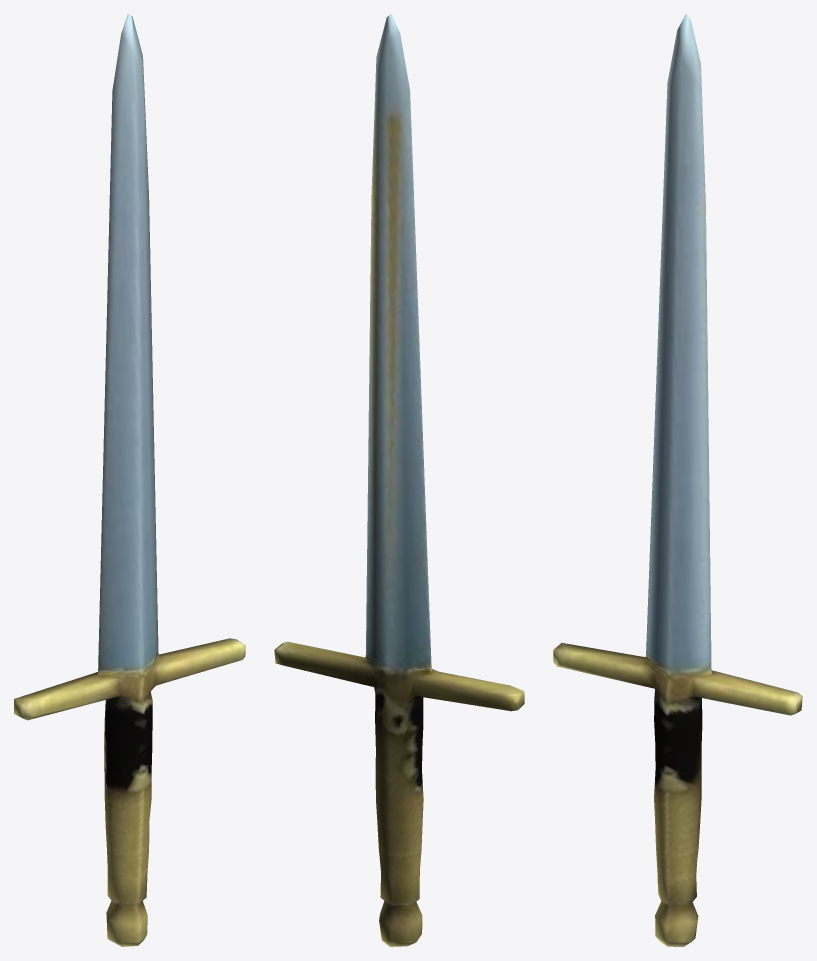
Rendered from Sword_2.glb.
The picture shows the model from 3 angles, left to right: view 1: azimuth 30°, elevation 25°; view 2: azimuth 150°, elevation 25°; view 3: azimuth 330°, elevation 25°; orthographic projection.
Parts seen in each view (by area): view 1: sword_low.001; view 2: sword_low.001; view 3: sword_low.001.
Part boxes in pixels (<box>): sword_low.001: <box>14,14,245,946</box>; sword_low.001: <box>274,14,524,946</box>; sword_low.001: <box>553,14,802,946</box>.
Size of the model in its own units: 0.6013 by 2.27 by 0.1182.
Materials: 1 (1 with a texture image).
